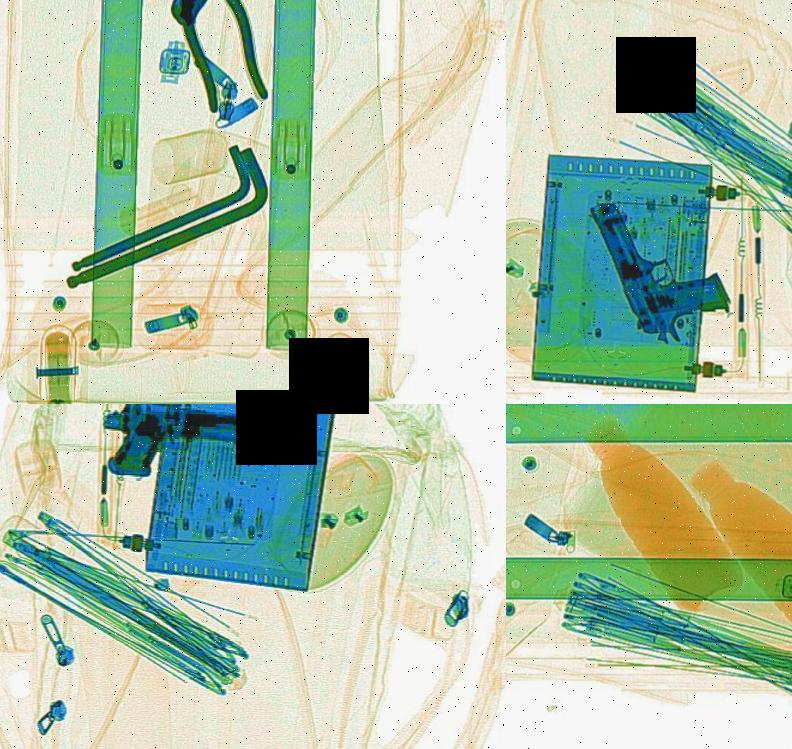Gun: (592, 174, 738, 350), (97, 404, 276, 491)
Pliers: (143, 0, 274, 124)
